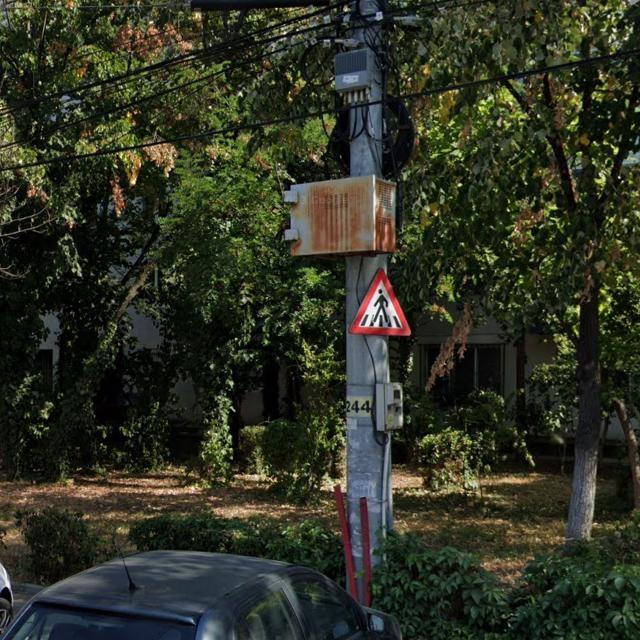warn_crosswalk: (350, 269, 410, 336)
